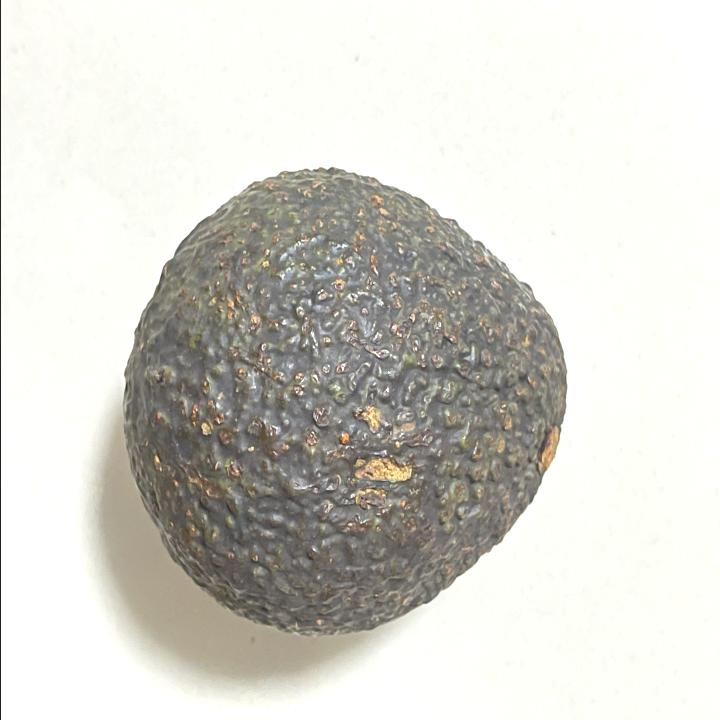Level1: (100, 153, 588, 651)
